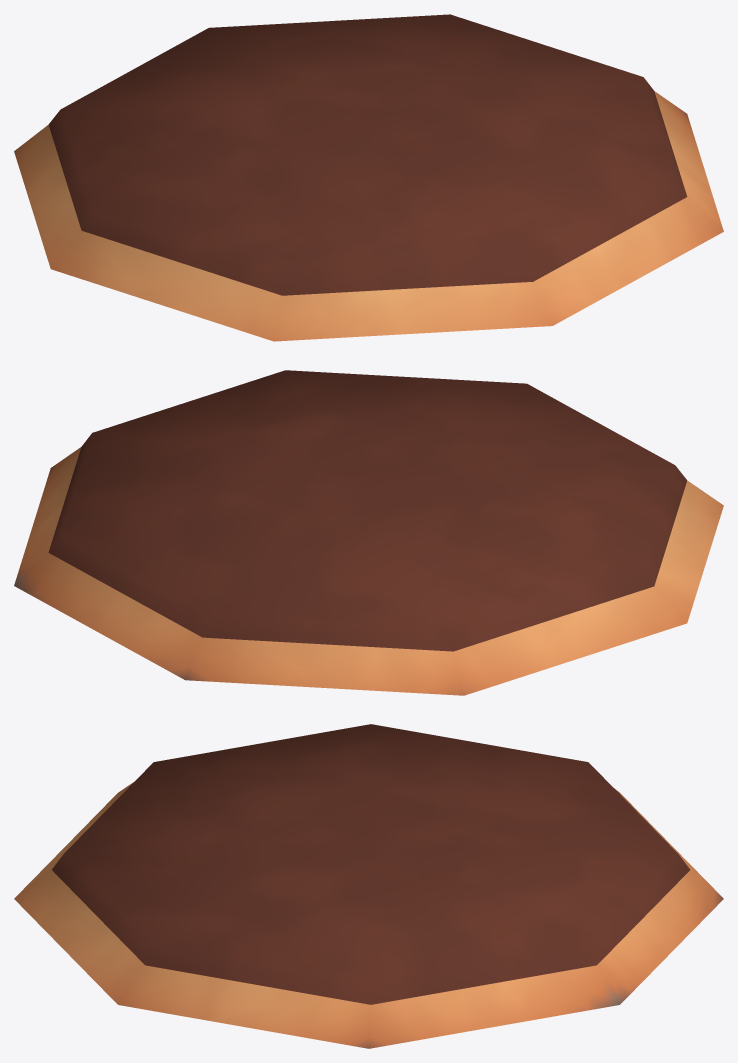
The model's file is Cookie_Frosted_G_3.FBX.
3 renders of one model, top to bottom at view 1: azimuth 30°, elevation 25°; view 2: azimuth 150°, elevation 25°; view 3: azimuth 270°, elevation 25°, orthographic. The views are drawn at different scales.
Parts seen in each view (by area): view 1: Cookie_02; view 2: Cookie_02; view 3: Cookie_02.
Part boxes in pixels (bbox=[...]): Cookie_02: bbox=[14, 14, 723, 341]; Cookie_02: bbox=[14, 370, 723, 695]; Cookie_02: bbox=[14, 724, 723, 1048].
Bounding box in the file's own units: 49.4 × 5.43 × 49.4.
